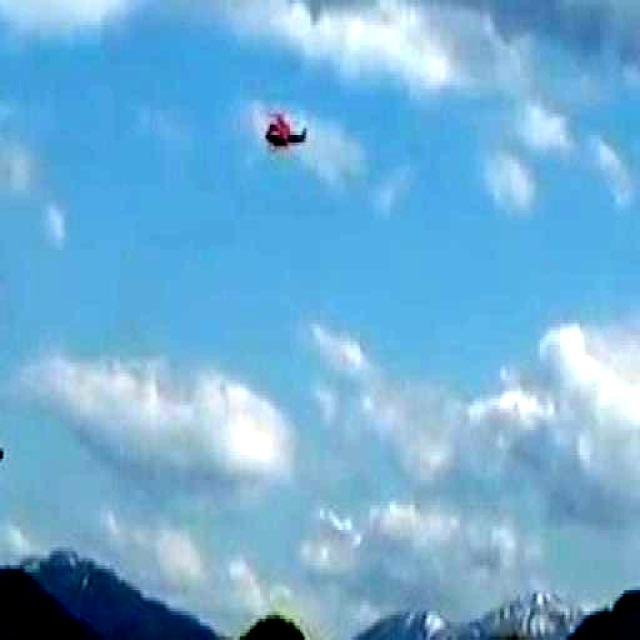drone: (262, 105, 309, 154)
